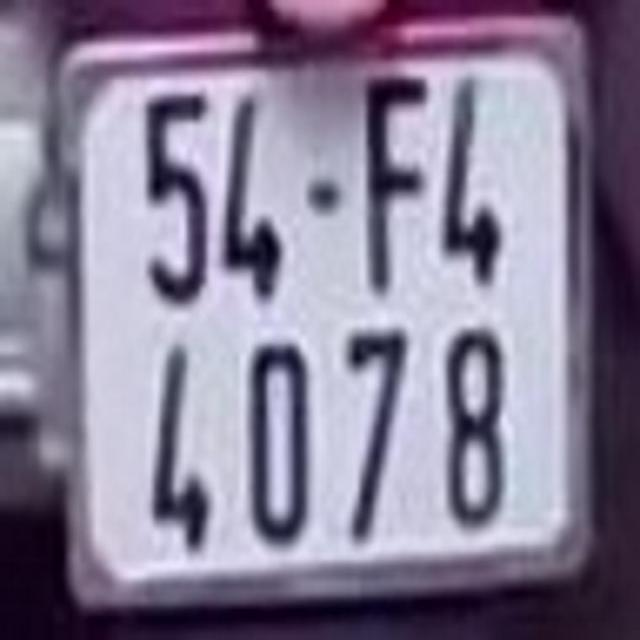0: (239, 340, 316, 540)
4: (143, 339, 222, 551), (436, 74, 507, 289), (219, 91, 285, 304)
5: (138, 84, 210, 308)
7: (334, 326, 414, 542)
8: (437, 316, 515, 534)
F: (354, 63, 427, 297)
